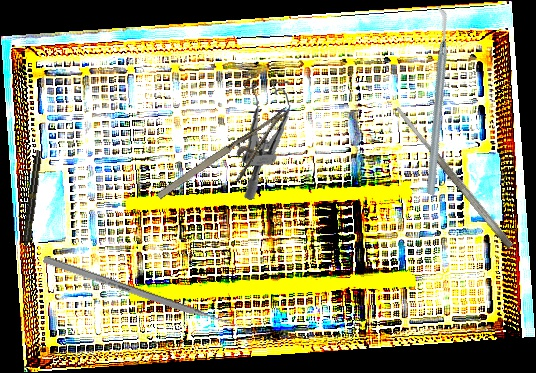Chopper: (355, 4, 515, 198)
Handpiece: (19, 149, 44, 257)
Needle Holder: (153, 106, 307, 222)
Pusher: (42, 255, 247, 333)
Spatula Surgical: (393, 103, 515, 251)
Speculum: (233, 68, 300, 201)
